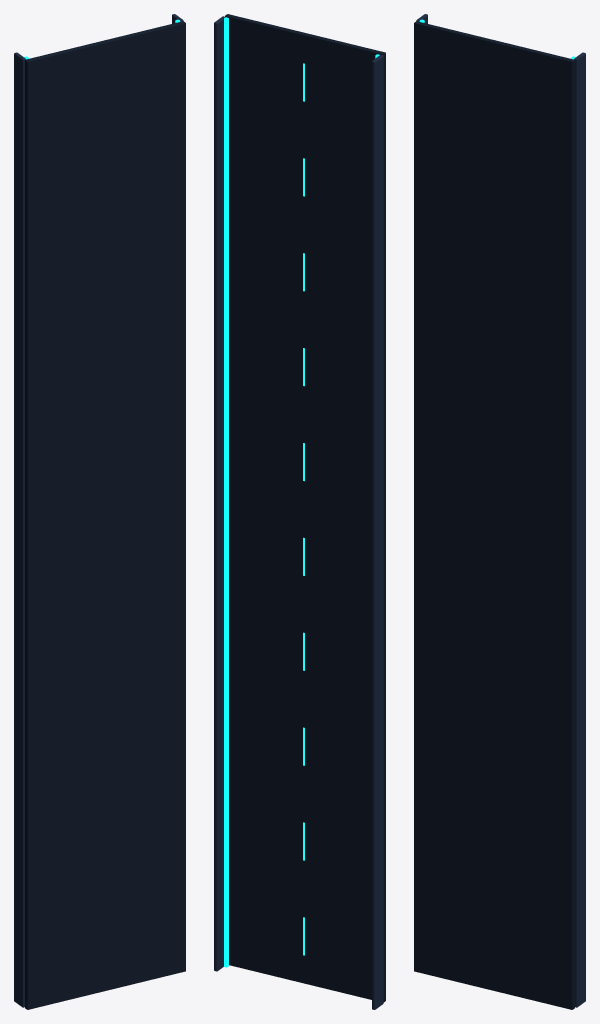
File: NeonTrackSegment.fbx
3 views of the same model, side by side, from view 1: azimuth 30°, elevation 25°; view 2: azimuth 150°, elevation 25°; view 3: azimuth 330°, elevation 25° (orthographic).
Parts seen in each view (by area): view 1: Road, Barrier_L; view 2: Road, Barrier_L, Barrier_R, Rail_R; view 3: Road, Barrier_R.
Boxes of the visible parts, bbox=[...] form: Road: bbox=[25, 21, 185, 1009]; Barrier_L: bbox=[14, 52, 25, 1007]; Road: bbox=[225, 14, 385, 1002]; Barrier_L: bbox=[372, 55, 383, 1009]; Barrier_R: bbox=[214, 16, 225, 971]; Rail_R: bbox=[224, 17, 228, 967]; Road: bbox=[414, 21, 574, 1009]; Barrier_R: bbox=[574, 52, 585, 1007].
Bounding box in the file's own units: 7.12 × 40 × 0.95.
